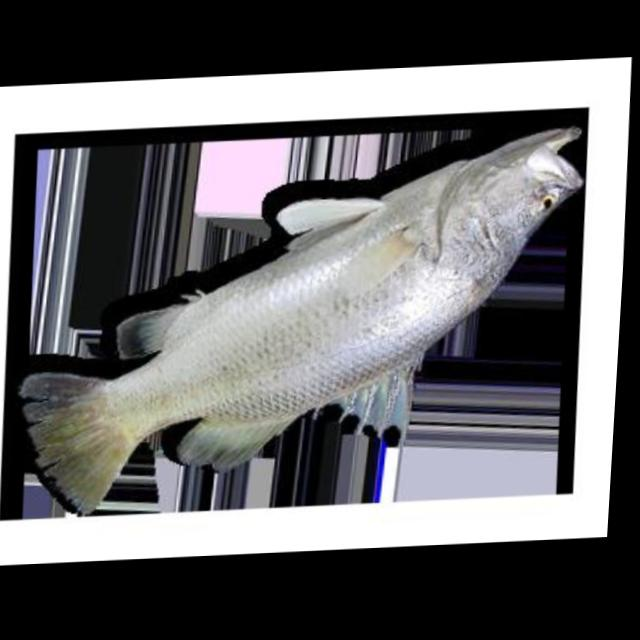Seabass: (7, 123, 592, 520)
